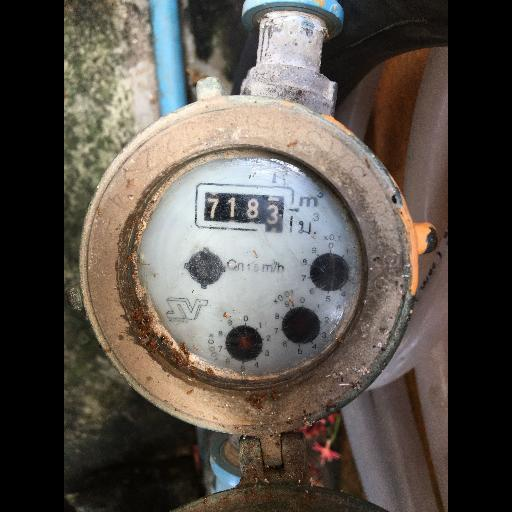1: (222, 192, 244, 222)
3: (264, 195, 284, 233)
7: (204, 192, 224, 222)
8: (242, 194, 266, 225)
border_water_meter_number: (194, 183, 294, 233)
